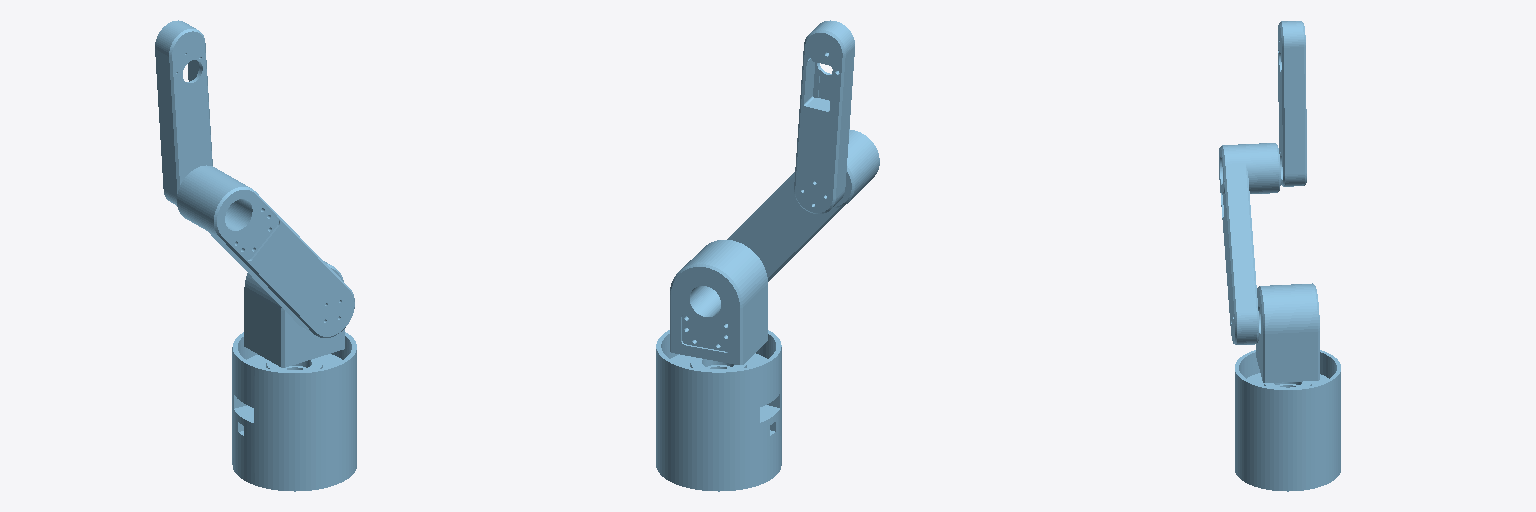
The robot description file, URDF, robot "zobotics":
<?xml version="1.0" ?>
<!-- Generated using onshape-to-robot -->
<!-- Onshape https://cad.onshape.com/documents/0d070155c0be5ebd6ad44cb9/w/707ea45bbead83dbacd89b65/e/d1b3a2e16f2ca10d357d2b2d -->
<robot name="zobotics">
  <!-- Ajouter AVANT le robot -->
<link name="world"/>

<joint name="world_to_base" type="fixed">
  <parent link="world"/>
  <child link="fixed_base"/>
  <origin xyz="0 0 0" rpy="0 0 0"/>
</joint>
  <!-- Link fixed_base -->
  <link name="fixed_base">
    <inertial>
      <origin xyz="0.000328968 7.74e-10 0.0483656" rpy="0 0 0"/>
      <mass value="0.280"/>
      <inertia ixx="0.00176108" ixy="9e-12" ixz="-3.79295e-05" iyy="0.00170496" iyz="3.1e-11" izz="0.00174972"/>
    </inertial>
    <!-- Part fixed_base -->
    <visual>
      <origin xyz="1.788e-09 -3.79e-10 4.41e-10" rpy="-0 -0 -0"/>
      <geometry>
        <mesh filename="assets/fixed_base.obj"/>
      </geometry>
      <material name="fixed_base_material">
        <color rgba="0.615686 0.811765 0.929412 1"/>
      </material>
    </visual>
    <collision>
      <origin xyz="1.788e-09 -3.79e-10 4.41e-10" rpy="-0 -0 -0"/>
      <geometry>
        <mesh filename="assets/fixed_base.obj"/>
      </geometry>
    </collision>
  </link>
  <!-- Link st3215_20200328_asm -->
  <link name="st3215_20200328_asm">
    <inertial>
      <origin xyz="-8.6665e-08 -0.00195243 -0.0460557" rpy="0 0 0"/>
      <mass value="0.28021491"/>
      <inertia ixx="0.00069617" ixy="3.945e-09" ixz="6.824e-09" iyy="0.000702596" iyz="-9.49679e-06" izz="0.00045166"/>
    </inertial>
    <!-- Part base_to_arm1 -->
    <visual>
      <origin xyz="0.0457863 -0.0294642 -0.0709413" rpy="-3.14159 -0 -0"/>
      <geometry>
        <mesh filename="assets/base_to_arm1.obj"/>
      </geometry>
      <material name="base_to_arm1_material">
        <color rgba="0.615686 0.811765 0.929412 1"/>
      </material>
    </visual>
    <collision>
      <origin xyz="0.0457863 -0.0294642 -0.0709413" rpy="-3.14159 -0 -0"/>
      <geometry>
        <mesh filename="assets/base_to_arm1.obj"/>
      </geometry>
    </collision>

  </link>
  <!-- Link arm1 -->
  <link name="arm1">
    <inertial>
      <origin xyz="-0.00920783 0.0902703 -0.0726224" rpy="0 0 0"/>
      <mass value="0.22406647"/>
      <inertia ixx="0.00161229" ixy="0.000143725" ixz="5.84483e-06" iyy="0.000213946" iyz="-5.7255e-05" izz="0.00160206"/>
    </inertial>
    <!-- Part arm1 -->
    <visual>
      <origin xyz="-0.000139835 0.00107877 -0.0890029" rpy="-1.5708 0 -3.04021"/>
      <geometry>
        <mesh filename="assets/arm1.obj"/>
      </geometry>
      <material name="arm1_material">
        <color rgba="0.615686 0.811765 0.929412 1"/>
      </material>
    </visual>
    <collision>
      <origin xyz="-0.000139835 0.00107877 -0.0890029" rpy="-1.5708 0 -3.04021"/>
      <geometry>
        <mesh filename="assets/arm1.obj"/>
      </geometry>
    </collision>
  </link>
  <!-- Link servo_to_shaft -->
  <link name="servo_to_shaft">
    <inertial>
      <origin xyz="-0.0748313 -0.00839663 -0.0714925" rpy="0 0 0"/>
      <mass value="0.244817"/>
      <inertia ixx="8.65717e-05" ixy="-9.01463e-05" ixz="3.19349e-05" iyy="0.000852735" iyz="4.24656e-06" izz="0.000855519"/>
    </inertial>
    <!-- Part arm2 -->
    <visual>
      <origin xyz="1.4029e-05 4.09657e-05 -0.0890029" rpy="-1.5708 0 -1.46942"/>
      <geometry>
        <mesh filename="assets/arm2.obj"/>
      </geometry>
      <material name="arm2_material">
        <color rgba="0.615686 0.811765 0.929412 1"/>
      </material>
    </visual>
    <collision>
      <origin xyz="1.4029e-05 4.09657e-05 -0.0890029" rpy="-1.5708 0 -1.46942"/>
      <geometry>
        <mesh filename="assets/arm2.obj"/>
      </geometry>
    </collision>
  </link>
  <!-- Joint from servo_to_shaft to part_1 -->
  <!-- Joint from arm1 to servo_to_shaft -->
  <joint name="servo2shaft3" type="revolute">
    <origin xyz="-0.0162905 0.160336 -0.0911532" rpy="-3.14159 -0 -0.734695"/>
    <parent link="arm1"/>
    <child link="servo_to_shaft"/>
    <axis xyz="0 0 1"/>
    <limit effort="2.5" velocity="60" lower="-2.20" upper="3.34"/>
  </joint>
  <!-- Joint from st3215_20200328_asm to arm1 -->
  <joint name="servo2shaft2" type="revolute">
    <origin xyz="-0 -0.0316144 -0.0717778" rpy="-1.5708 -0.801811 -3.14159"/>
    <parent link="st3215_20200328_asm"/>
    <child link="arm1"/>
    <axis xyz="0 0 1"/>
    <limit effort="2.5" velocity="60" lower="-1.40" upper="2.75"/>
  </joint>
  <!-- Joint from fixed_base to st3215_20200328_asm -->
  <joint name="base_rotZ" type="revolute">
    <origin xyz="1.788e-09 -3.79e-10 0.099" rpy="-3.14159 -0 0.112517"/>
    <parent link="fixed_base"/>
    <child link="st3215_20200328_asm"/>
    <axis xyz="0 0 1"/>
    <limit effort="1.5" velocity="60" lower="-1.57" upper="1.57"/>
  </joint>
</robot>

--- Render facts (derived) ---
Views: 3 orthographic renders of the robot side by side, from view 1: azimuth 30°, elevation 25°; view 2: azimuth 150°, elevation 25°; view 3: azimuth 270°, elevation 25°.
Robot: zobotics — 5 links, 4 joints (3 revolute, 1 fixed); root link world; default pose: every joint at zero.
Links seen in each view (by area): view 1: fixed_base, arm1, servo_to_shaft, st3215_20200328_asm; view 2: fixed_base, st3215_20200328_asm, servo_to_shaft, arm1; view 3: fixed_base, arm1, st3215_20200328_asm, servo_to_shaft.
Boxes of the visible links, bbox=[...] form: fixed_base: bbox=[232, 332, 356, 491]; arm1: bbox=[177, 165, 354, 337]; servo_to_shaft: bbox=[155, 20, 212, 205]; st3215_20200328_asm: bbox=[244, 261, 344, 367]; fixed_base: bbox=[656, 330, 781, 491]; st3215_20200328_asm: bbox=[670, 240, 767, 364]; servo_to_shaft: bbox=[794, 20, 854, 213]; arm1: bbox=[727, 129, 879, 281]; fixed_base: bbox=[1235, 350, 1340, 491]; arm1: bbox=[1219, 143, 1280, 344]; st3215_20200328_asm: bbox=[1256, 283, 1319, 382]; servo_to_shaft: bbox=[1278, 21, 1306, 186].
Size in the robot's own frame: 0.1905 by 0.1264 by 0.4536 metres.
4 mesh visuals loaded from 4 distinct referenced files (4 OBJ).
